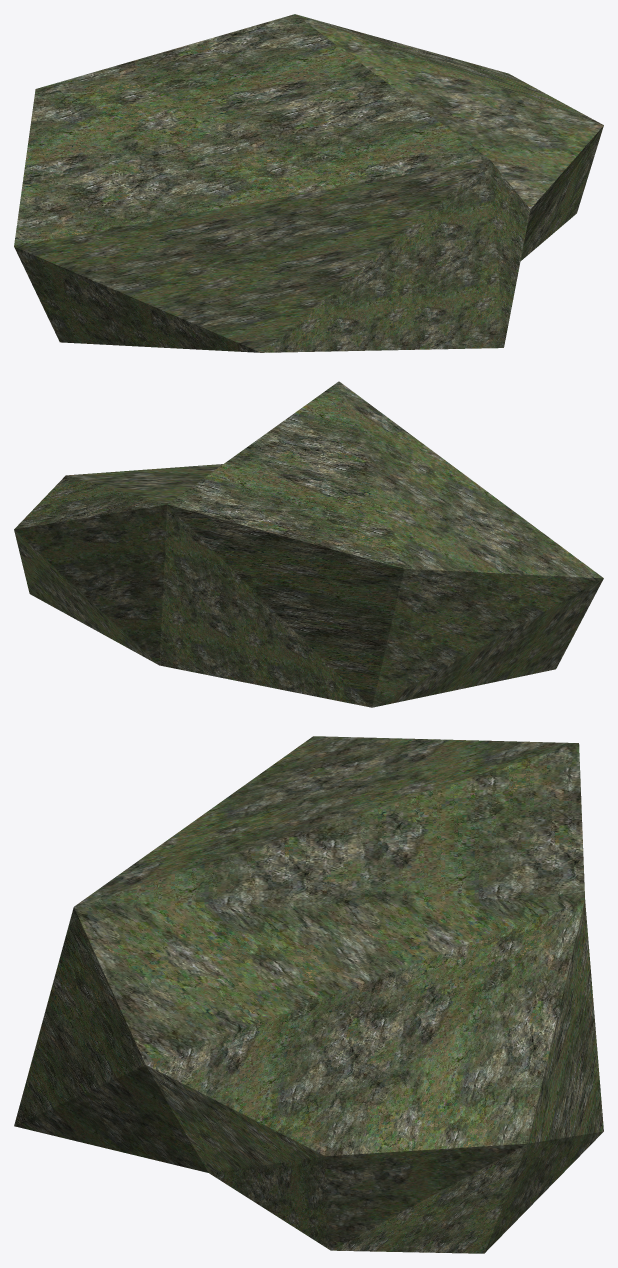
Rendered from mtns_rock_moss_a4_l2.fbx.
The picture shows the model from 3 angles, top to bottom: view 1: azimuth 30°, elevation 25°; view 2: azimuth 150°, elevation 25°; view 3: azimuth 270°, elevation 25°; orthographic projection. The views are drawn at different scales.
Visible parts, largest first — view 1: mesh_node; view 2: mesh_node; view 3: mesh_node.
Part boxes in pixels (bbox=[...]): mesh_node: bbox=[14, 14, 603, 352]; mesh_node: bbox=[14, 381, 603, 707]; mesh_node: bbox=[14, 736, 603, 1253].
Size of the model in its own units: 2.31 by 0.6556 by 1.5.
